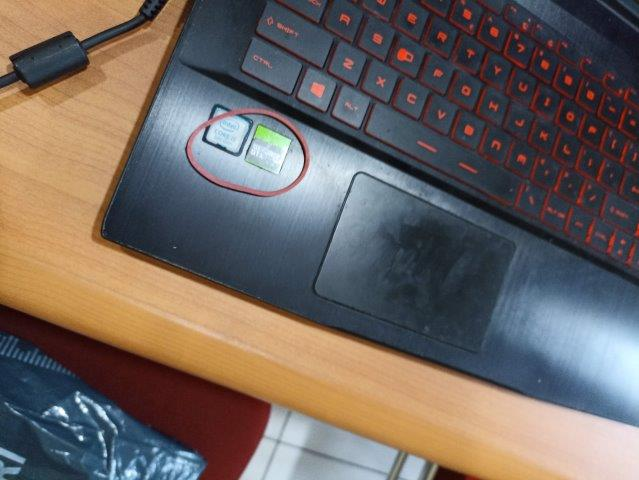karet: (186, 107, 311, 198)
